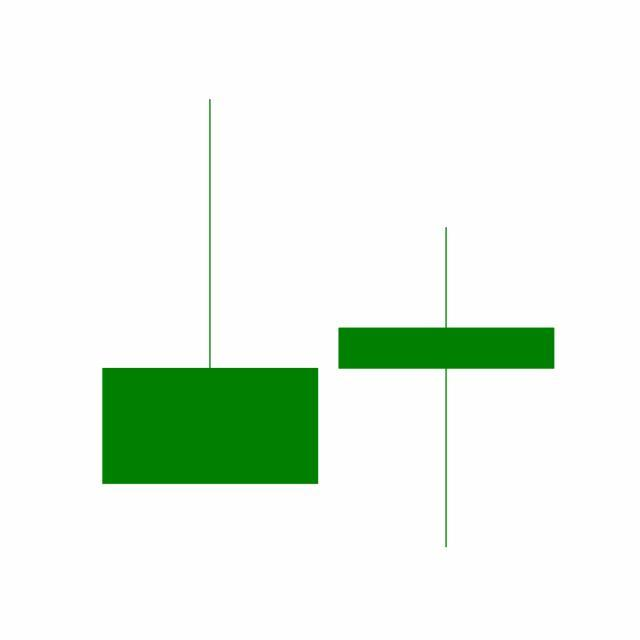Spinning Top: (328, 224, 566, 552)
